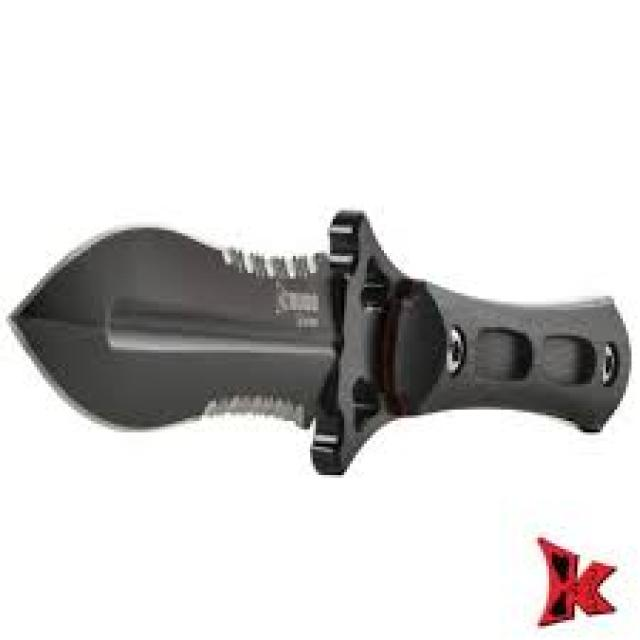knives: (3, 202, 637, 481)
